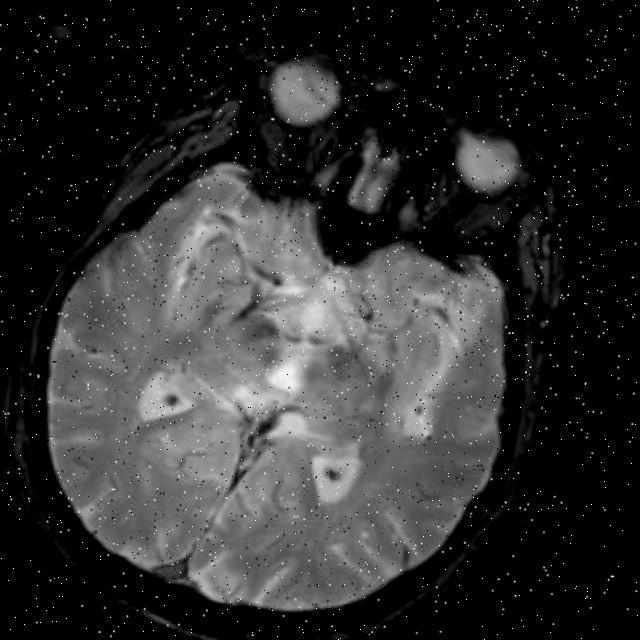EMCI: (158, 166, 330, 364), (365, 240, 523, 448)
